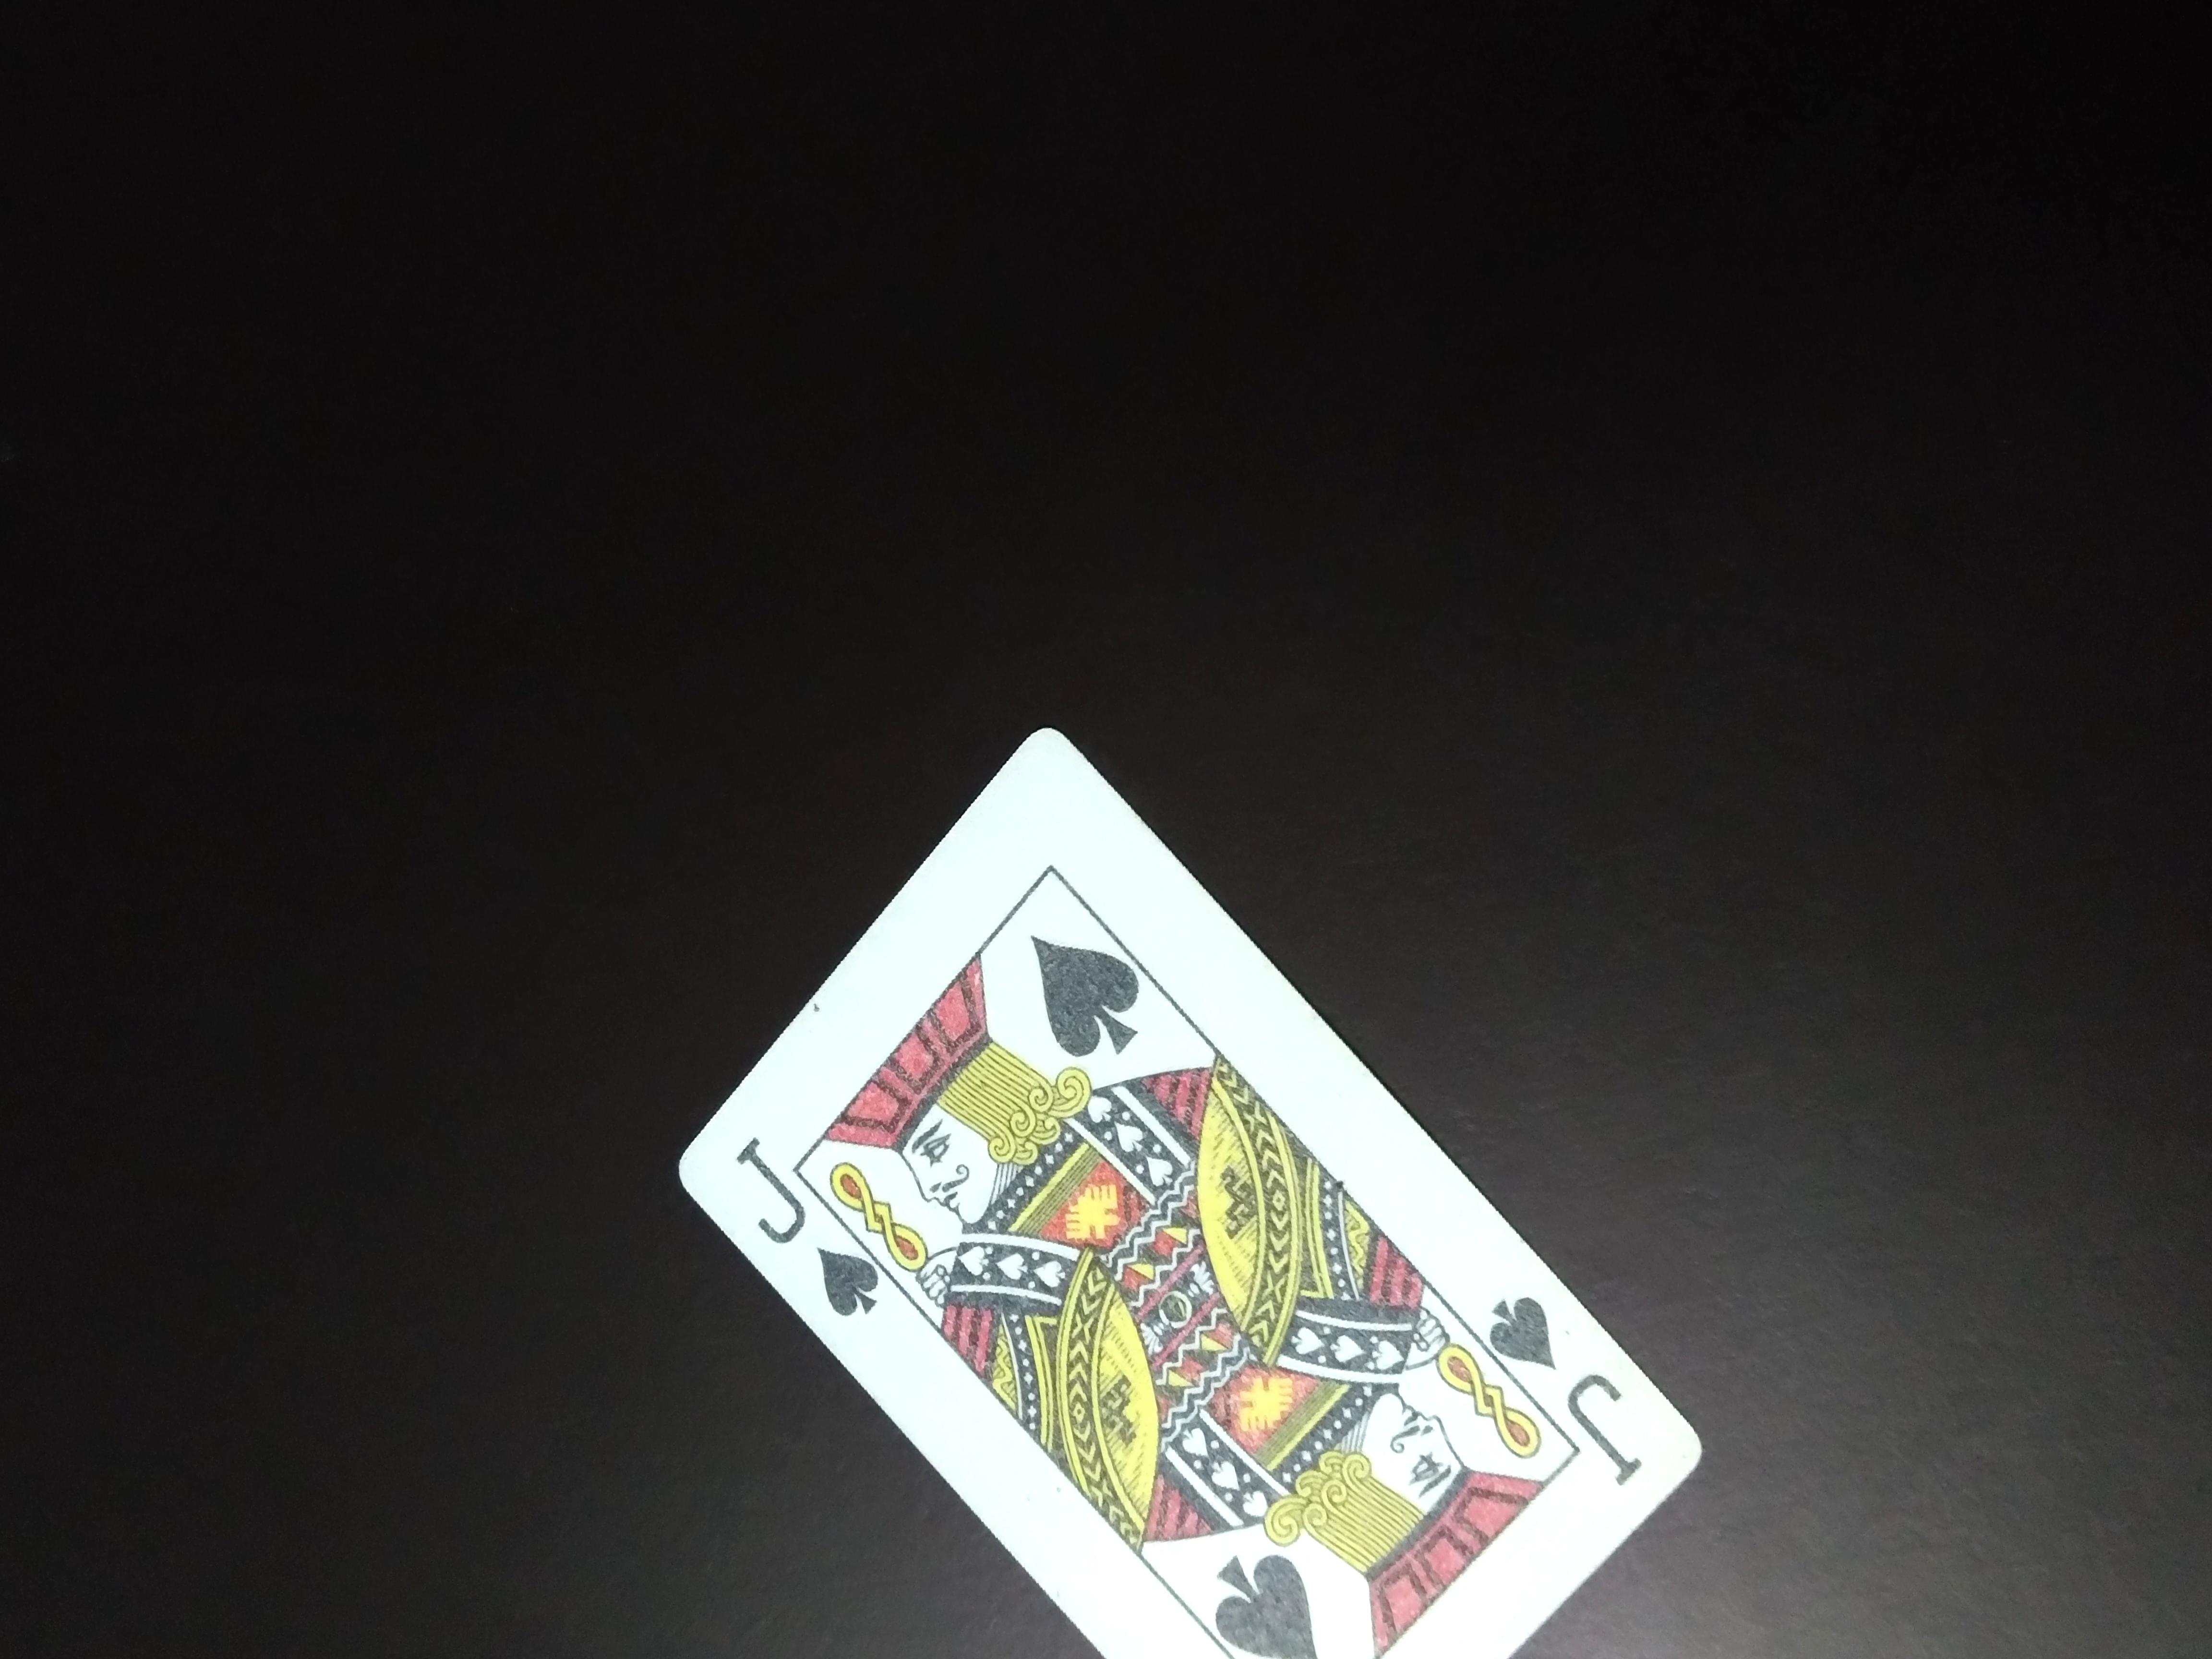JS: (721, 1133, 864, 1328)
